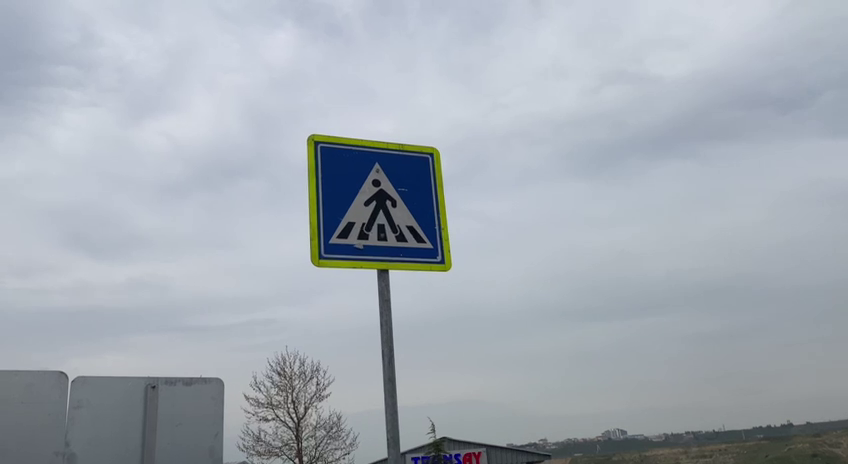pedestrianCrossing: (303, 132, 454, 273)
